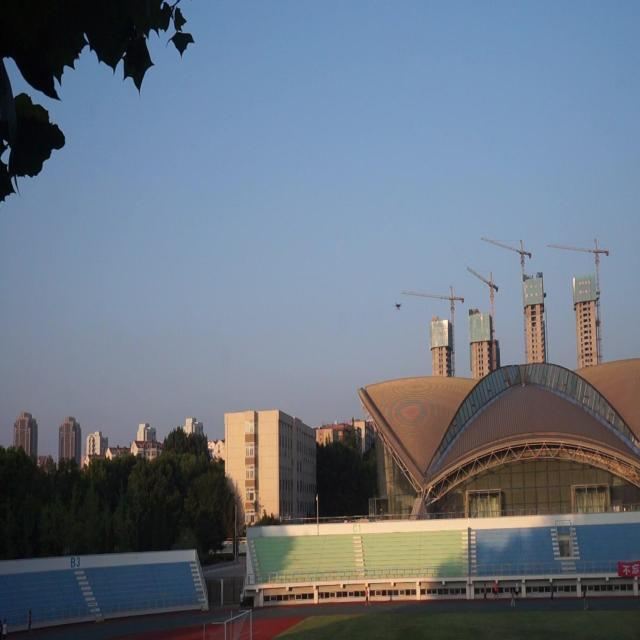drone: (394, 298, 404, 311)
